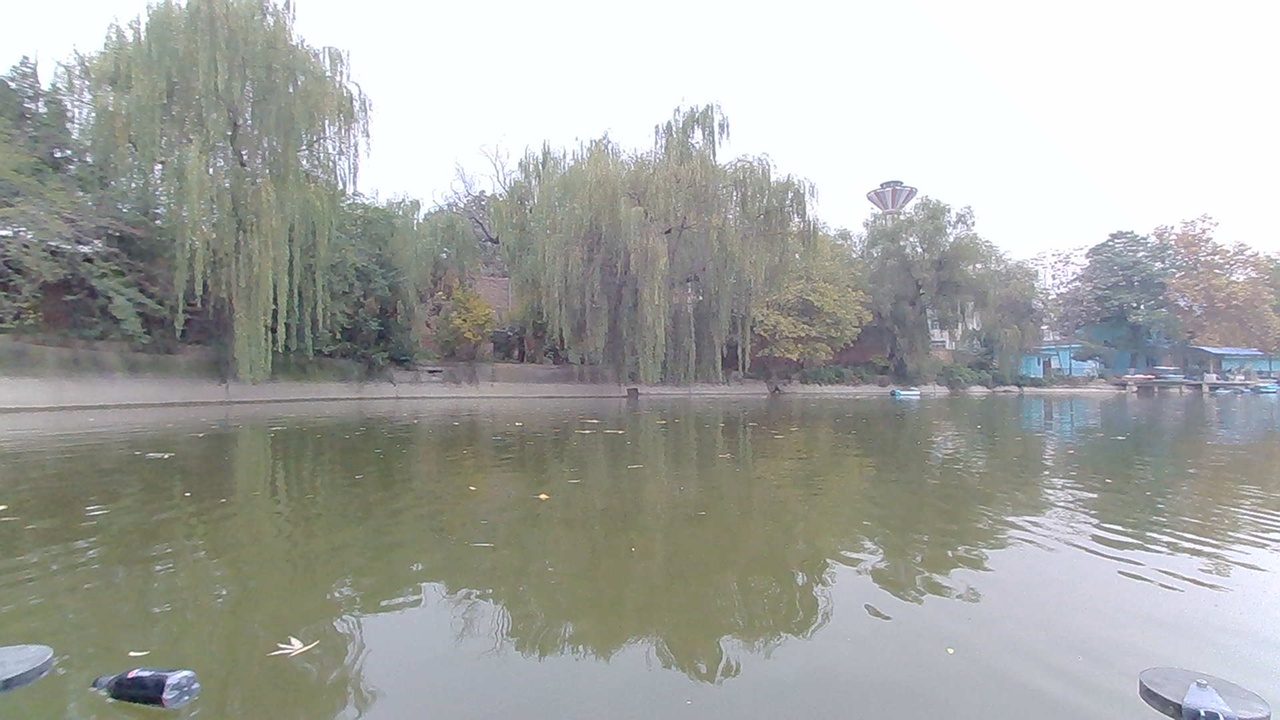bottle: (129, 673, 183, 707)
